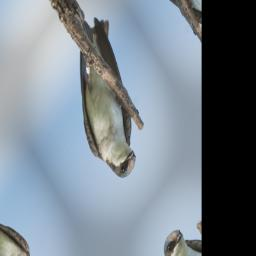Swallow: (45, 1, 169, 194)
